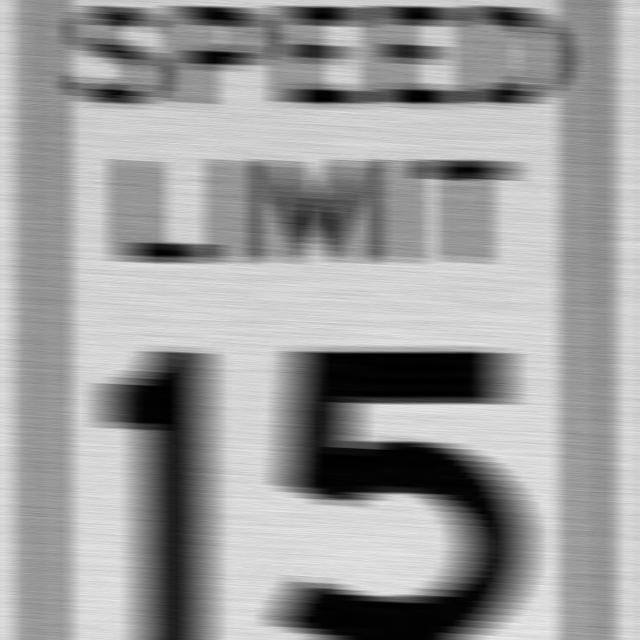speedLimit15: (16, 0, 606, 640)
